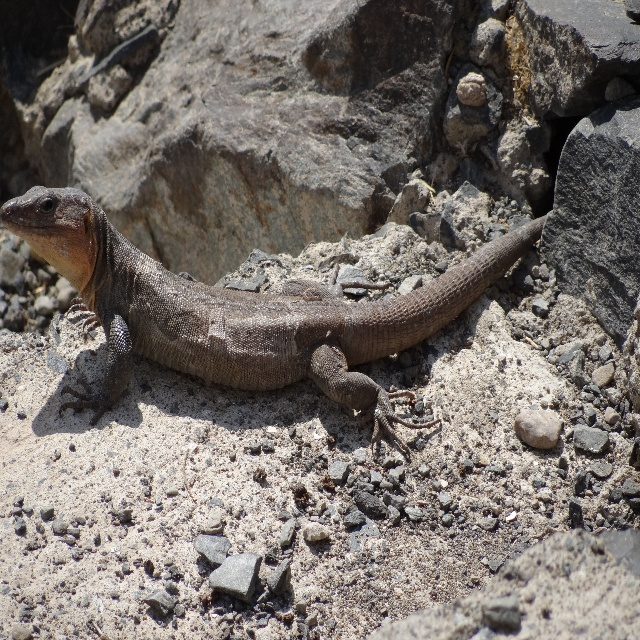Lizard: (0, 185, 547, 462)
